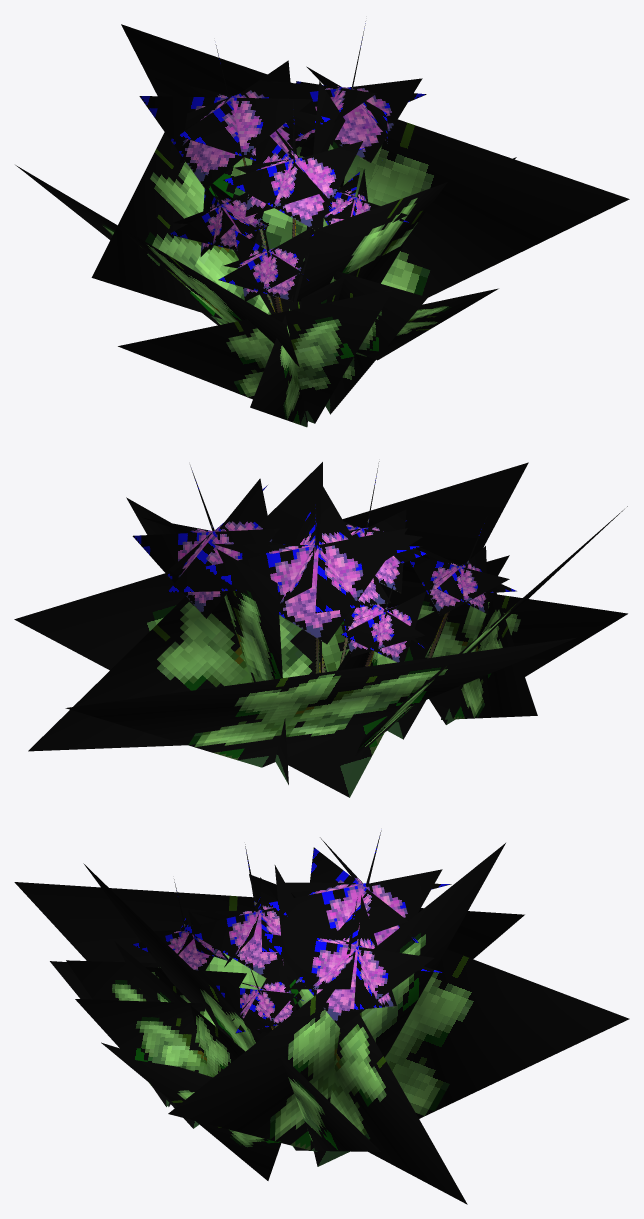
Rendered from plants_area04_flower03.gltf.
3 renders of one model, top to bottom at view 1: azimuth 30°, elevation 25°; view 2: azimuth 150°, elevation 25°; view 3: azimuth 270°, elevation 25°, orthographic. The views are drawn at different scales.
Parts seen in each view (by area): view 1: um_plants_area04_flower03_model_plants_area04_flower03_model; view 2: um_plants_area04_flower03_model_plants_area04_flower03_model; view 3: um_plants_area04_flower03_model_plants_area04_flower03_model.
Part boxes in pixels (x1=…): um_plants_area04_flower03_model_plants_area04_flower03_model: x1=15, y1=21, x2=629, y2=427; um_plants_area04_flower03_model_plants_area04_flower03_model: x1=14, y1=461, x2=627, y2=797; um_plants_area04_flower03_model_plants_area04_flower03_model: x1=14, y1=830, x2=629, y2=1204.
Bounding box in the file's own units: 1.3 × 0.8462 × 1.48.
1 material, 1 textured.
